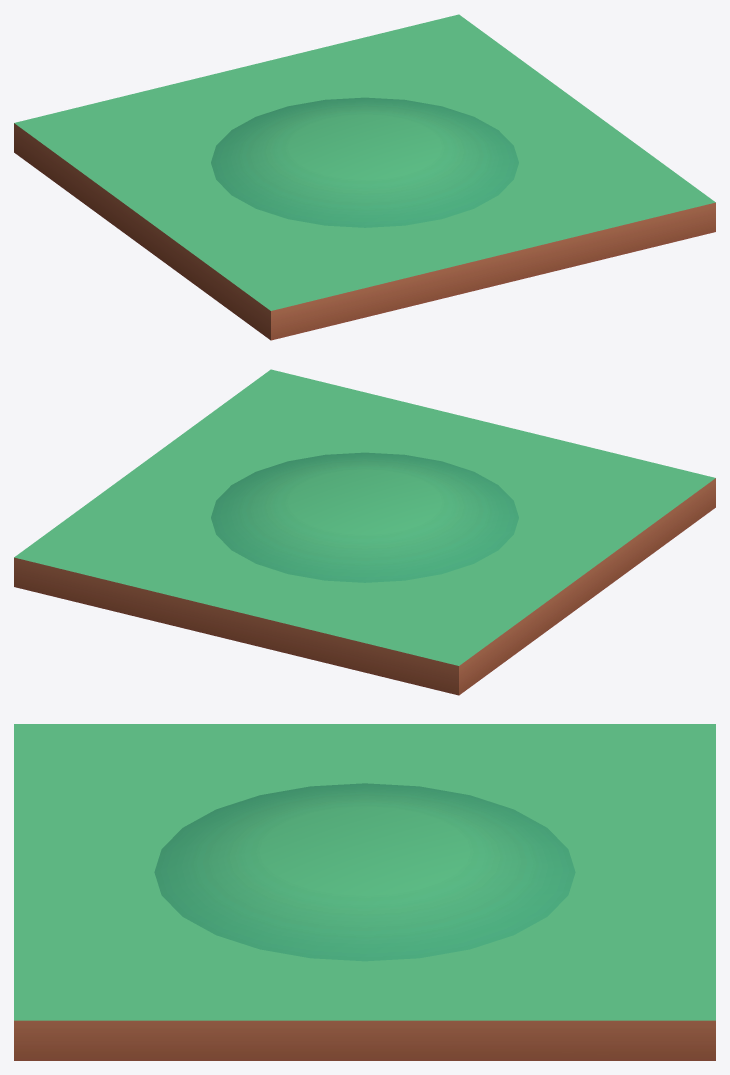
File: bump.glb
3 views of the same model, one above another, from view 1: azimuth 30°, elevation 25°; view 2: azimuth 150°, elevation 25°; view 3: azimuth 270°, elevation 25° (orthographic). The views are drawn at different scales.
Parts seen in each view (by area): view 1: bump; view 2: bump; view 3: bump.
Boxes of the visible parts, left/top/right/bottom form: bump: left=14, top=14, right=715, bottom=340; bump: left=14, top=369, right=715, bottom=695; bump: left=14, top=724, right=715, bottom=1060.
Bounding box in the file's own units: 0.9999 × 0.0967 × 0.9999.
Materials: 1 (1 with a texture image).
